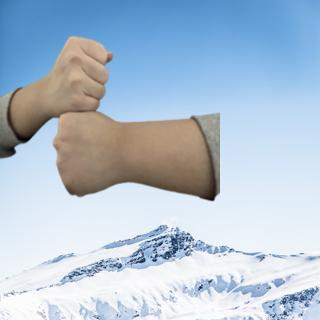CAREFUL: (12, 35, 205, 198)
